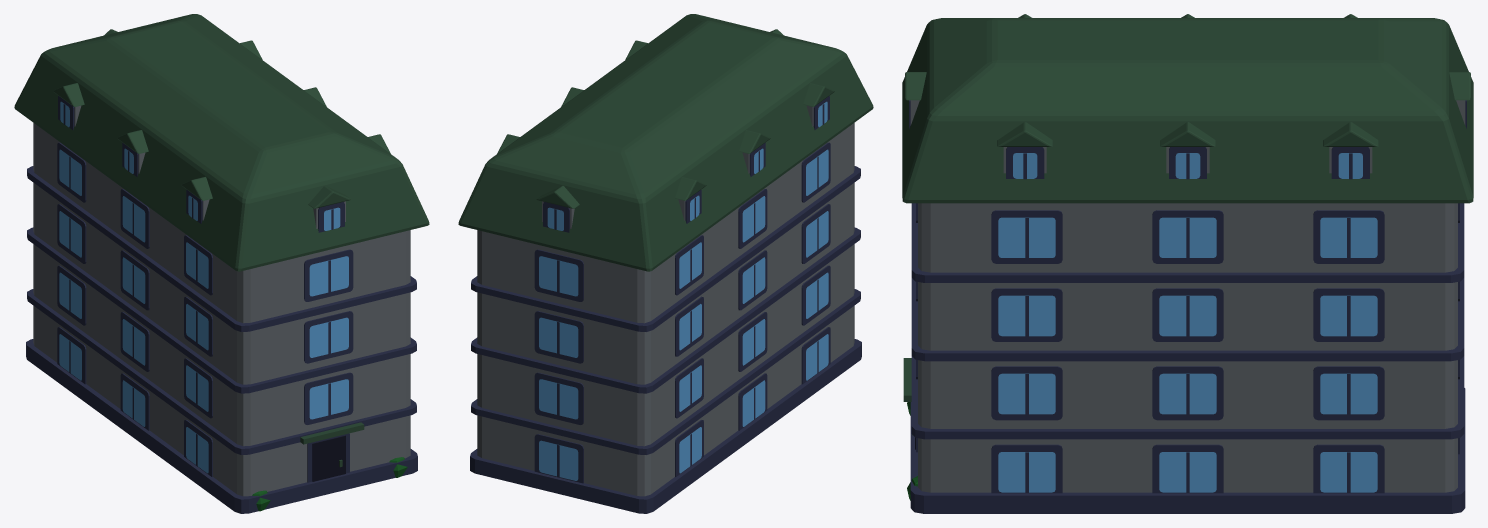
Rendered from house-1x2-4f-mansard-d.glb.
The picture shows the model from 3 angles, left to right: view 1: azimuth 30°, elevation 25°; view 2: azimuth 150°, elevation 25°; view 3: azimuth 270°, elevation 25°; orthographic projection. The views are drawn at different scales.
Visible parts, largest first — view 1: house-1x2-4f-mansard-d; view 2: house-1x2-4f-mansard-d; view 3: house-1x2-4f-mansard-d.
Boxes of the visible parts, x1,y1,x2,y2 form: house-1x2-4f-mansard-d: (14,14,429,513); house-1x2-4f-mansard-d: (458,14,873,513); house-1x2-4f-mansard-d: (902,14,1473,513).
Bounding box in the file's own units: 0.9876 × 1.6 × 1.99.
Materials: 1 (1 with a texture image).
